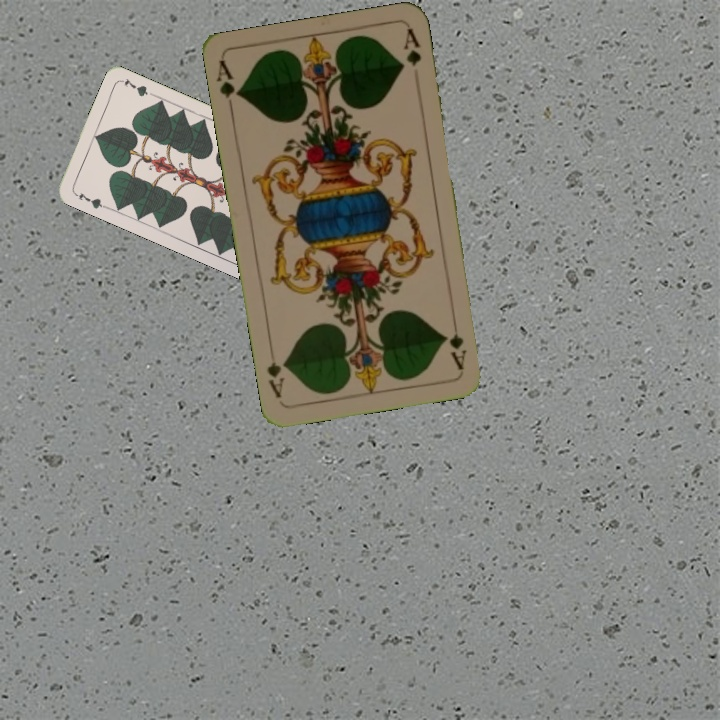G7: (70, 188, 109, 211)
GA: (213, 57, 244, 116), (445, 313, 470, 372)
